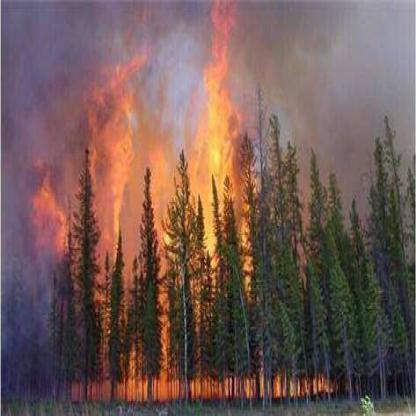fire: (36, 37, 336, 400)
